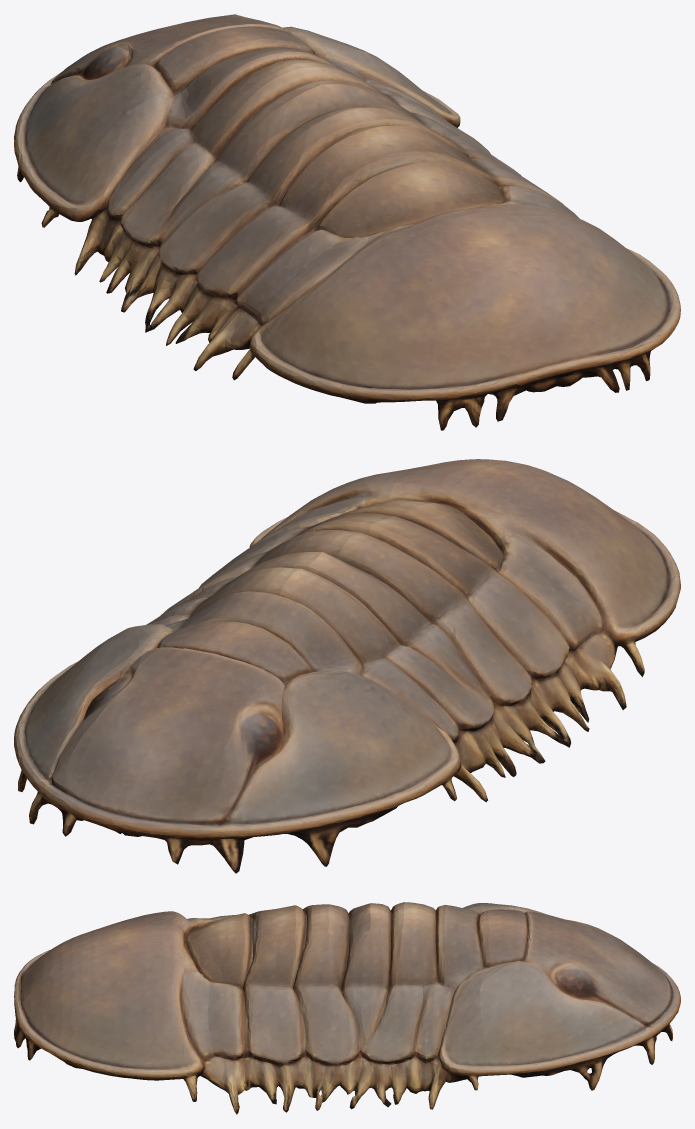
3 views of the same model, one above another, from view 1: azimuth 30°, elevation 25°; view 2: azimuth 150°, elevation 25°; view 3: azimuth 270°, elevation 25° (orthographic). The views are drawn at different scales.
Visible parts, largest first — view 1: world; view 2: world; view 3: world.
Part boxes in pixels (left/top/right/bottom): world: left=14, top=14, right=680, bottom=430; world: left=14, top=459, right=680, bottom=873; world: left=14, top=902, right=680, bottom=1114.
Bounding box in the file's own units: 0.5604 × 0.2119 × 0.9986.
1 material, 1 textured.
